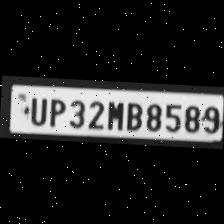2: (85, 96, 105, 130)
3: (64, 96, 86, 128)
5: (160, 100, 182, 132)
8: (142, 98, 162, 132), (182, 102, 202, 132)
9: (198, 102, 222, 134)
B: (122, 97, 144, 130)
M: (103, 97, 123, 130)
P: (44, 95, 66, 127)
U: (24, 94, 46, 124)
